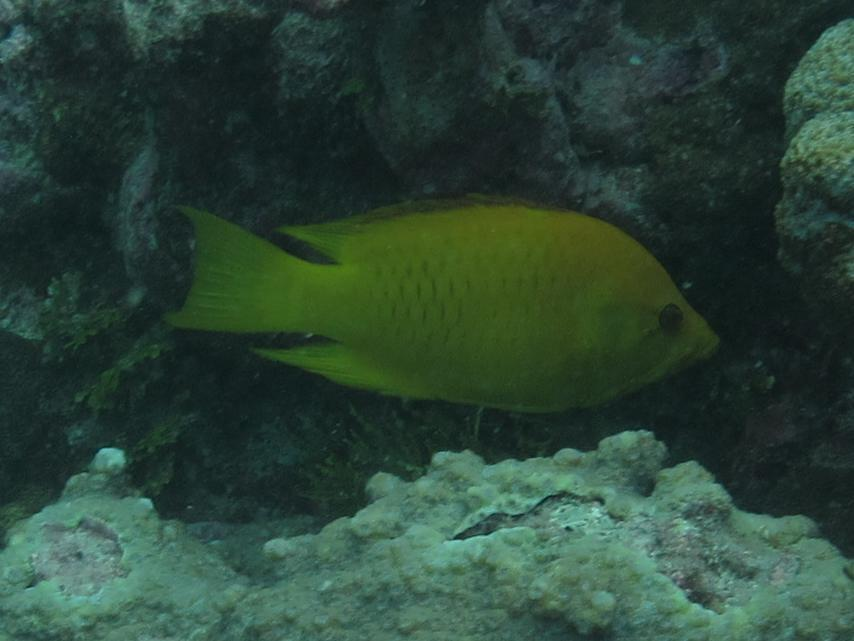Fish: (124, 164, 746, 456)
